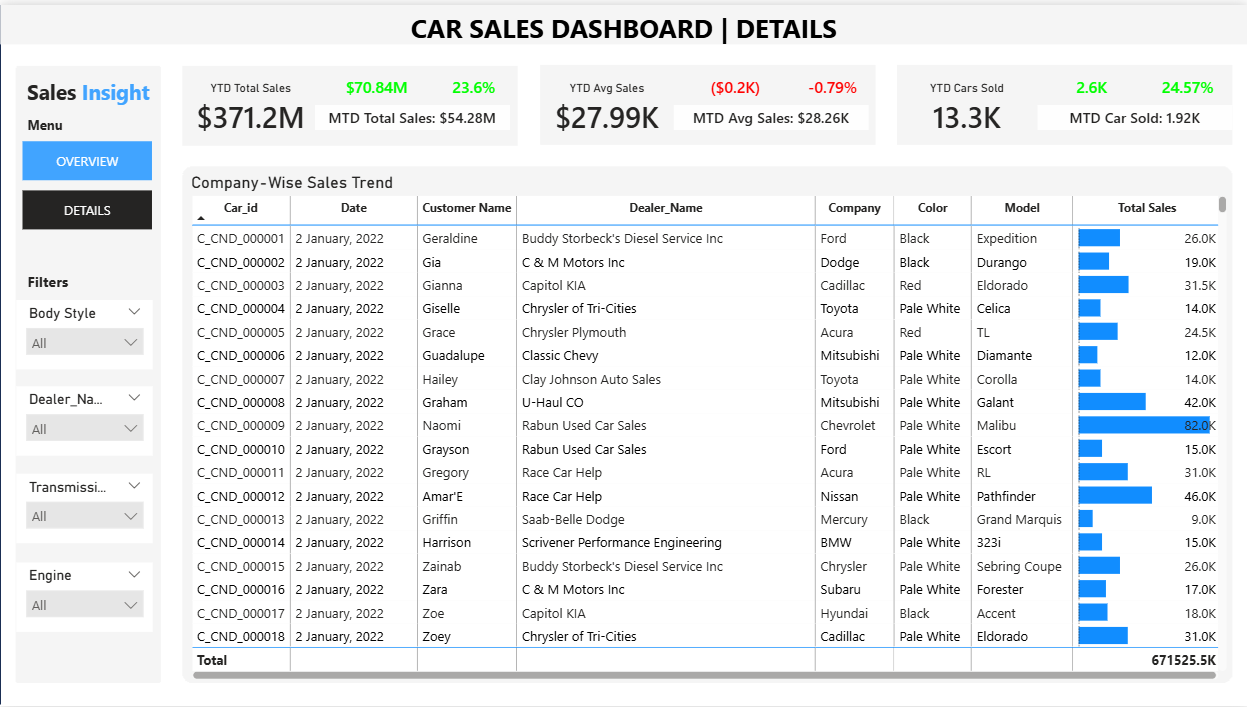

This screenshot's page, from the dashboard's own definition file:
{"tool":"powerbi","page":{"name":"DETAILS","canvas":[1280,720],"ordinal":1},"visuals":[{"type":"card","title":"YTD Total Sales","fields":{"Values":["*Measure table.YTD Total Sales"]},"box":[191.3,78.7,132,61.3],"z":0},{"type":"card","title":"YTD Total Sales","fields":{"Values":["*Measure table.Sales Difference"]},"box":[342,72,88,25.3],"z":1000},{"type":"card","title":"YTD Total Sales","fields":{"Values":["*Measure table.YOY Growth Sales"]},"box":[448.7,72,74.7,25.3],"z":2000},{"type":"card","fields":{"Values":["*Measure table.MTD KPI"]},"box":[323.3,102.7,200,25.3],"z":3000},{"type":"card","title":"YTD Avg Sales","fields":{"Values":["*Measure Table.YTD Average Price"]},"box":[556,78.7,132,61.3],"z":4000},{"type":"card","title":"YTD Total Sales","fields":{"Values":["*Measure Table.Diff Average Price"]},"box":[709.9,71.9,88,25.3],"z":5000},{"type":"card","title":"YTD Total Sales","fields":{"Values":["*Measure Table.YOY Growth in Average Price"]},"box":[816.5,71.9,74.7,25.3],"z":6000},{"type":"card","fields":{"Values":["*Measure Table.MTD Avg KPI"]},"box":[691.2,102.5,200,25.3],"z":7000},{"type":"card","title":"YTD Cars Sold","fields":{"Values":["*Measure Table.YTD Cars Sold"]},"box":[925.3,78.7,132,61.3],"z":8000},{"type":"card","title":"YTD Total Sales","fields":{"Values":["*Measure Table.Cars Sold Diff"]},"box":[1076,72,88,25.3],"z":9000},{"type":"card","title":"YTD Total Sales","fields":{"Values":["*Measure Table.YOY Growth in Cars Sold"]},"box":[1181.3,72,74.7,25.3],"z":10000},{"type":"card","fields":{"Values":["*Measure Table.MTD Cars Sold KPI"]},"box":[1064,102.7,200,25.3],"z":11000},{"type":"textbox","box":[0,0,1280,44.3],"z":12000},{"type":"slicer","fields":{"Values":["car_data.Body Style"]},"box":[16.2,302.5,140,71.2],"z":13000},{"type":"slicer","fields":{"Values":["car_data.Dealer_Name"]},"box":[16.2,391.2,140,71.2],"z":14000},{"type":"slicer","fields":{"Values":["car_data.Transmission"]},"box":[16.2,481.2,140,71.2],"z":15000},{"type":"slicer","fields":{"Values":["car_data.Engine"]},"box":[16.2,571.2,140,71.2],"z":16000},{"type":"textbox","box":[22.8,267.8,78.9,35],"z":17000},{"type":"tableEx","title":"Company-Wise Sales Trend","fields":{"Values":["car_data.Car_id","car_data.Date","car_data.Customer Name","car_data.Dealer_Name","car_data.Company","car_data.Color","car_data.Model","Sum(car_data.Price ($))"]},"box":[191.2,171.2,1072.5,525],"z":18000},{"type":"textbox","box":[16.1,68.9,147.8,40.6],"z":18001},{"type":"textbox","box":[22.8,109.4,63.9,29.4],"z":18002},{"type":"pageNavigator","box":[23.1,140,133.1,90],"z":18003}]}

Visuals, with their boxes in screenshot pixels (x1, y1, x2, y2), scaled from the page's 1280x720 canvas onto the 1247x707 screenshot:
"YTD Total Sales" card: rect(186, 77, 315, 137)
"YTD Total Sales" card: rect(333, 71, 419, 96)
"YTD Total Sales" card: rect(437, 71, 510, 96)
card - *Measure table.MTD KPI: rect(315, 101, 510, 126)
"YTD Avg Sales" card: rect(542, 77, 670, 137)
"YTD Total Sales" card: rect(692, 71, 777, 95)
"YTD Total Sales" card: rect(795, 71, 868, 95)
card - *Measure Table.MTD Avg KPI: rect(673, 101, 868, 125)
"YTD Cars Sold" card: rect(901, 77, 1030, 137)
"YTD Total Sales" card: rect(1048, 71, 1134, 96)
"YTD Total Sales" card: rect(1151, 71, 1224, 96)
card - *Measure Table.MTD Cars Sold KPI: rect(1037, 101, 1231, 126)
textbox: rect(0, 0, 1246, 44)
slicer - car_data.Body Style: rect(16, 297, 152, 367)
slicer - car_data.Dealer_Name: rect(16, 384, 152, 454)
slicer - car_data.Transmission: rect(16, 473, 152, 542)
slicer - car_data.Engine: rect(16, 561, 152, 631)
textbox: rect(22, 263, 99, 297)
"Company-Wise Sales Trend" tableEx: rect(186, 168, 1231, 684)
textbox: rect(16, 68, 160, 108)
textbox: rect(22, 107, 84, 136)
pageNavigator: rect(23, 137, 152, 226)
